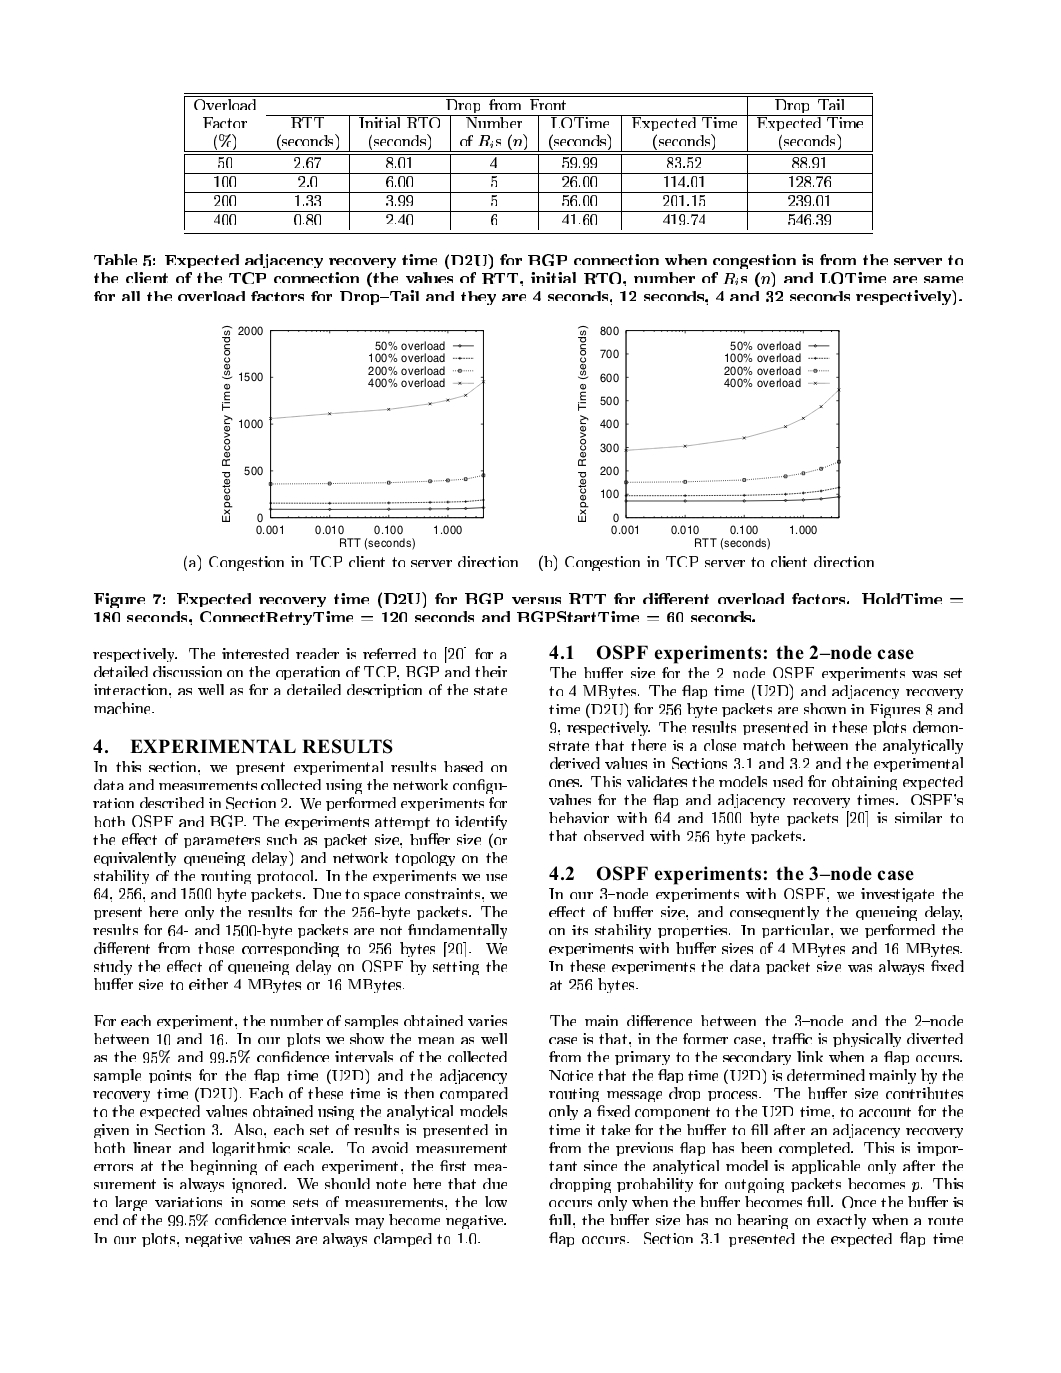Table: (184, 92, 872, 230)
figure: (222, 325, 485, 549), (578, 325, 840, 549)
